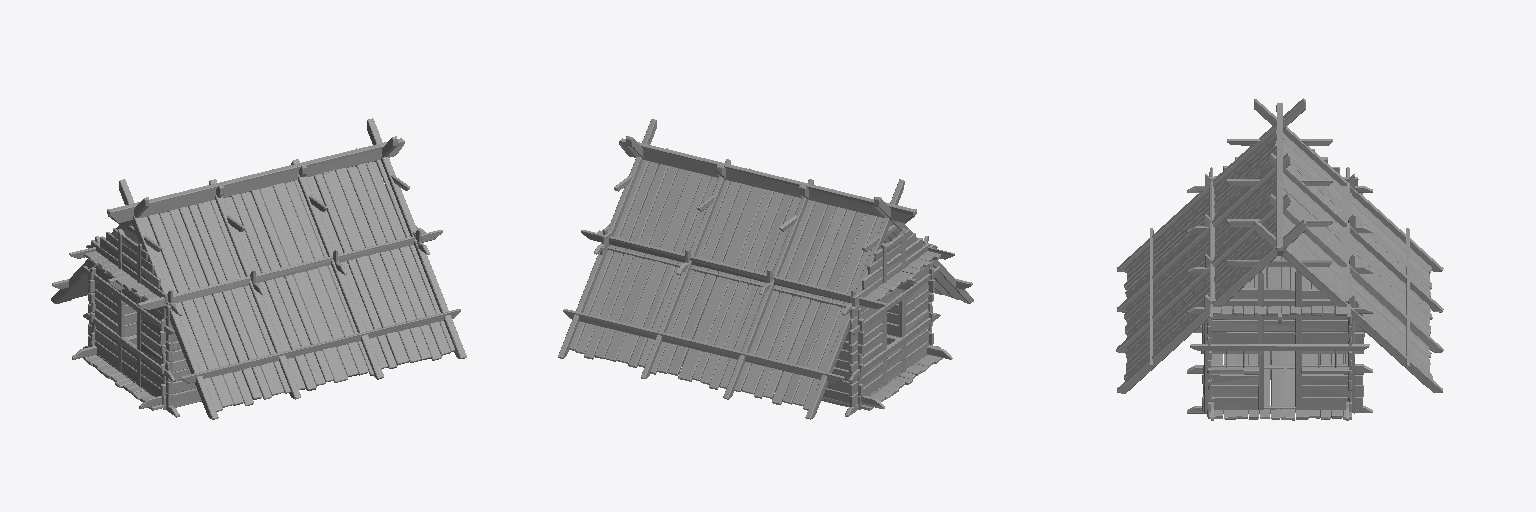
Rendered from v_simple_hut_LOD0.obj.
3 renders of one model, left to right at view 1: azimuth 30°, elevation 25°; view 2: azimuth 150°, elevation 25°; view 3: azimuth 270°, elevation 25°, orthographic.
Visible parts, largest first — view 1: Cube.000_Cube.014, Cube.001_Cube.013; view 2: Cube.000_Cube.014, Cube.001_Cube.013; view 3: Cube.000_Cube.014, Cube.001_Cube.013.
Boxes of the visible parts, x1,y1,x2,y2 form: Cube.000_Cube.014: [58, 160, 454, 411]; Cube.001_Cube.013: [51, 118, 466, 419]; Cube.000_Cube.014: [569, 160, 961, 412]; Cube.001_Cube.013: [558, 119, 973, 419]; Cube.000_Cube.014: [1124, 130, 1432, 420]; Cube.001_Cube.013: [1116, 98, 1443, 420].
Bounding box in the file's own units: 22.41 × 13.68 × 20.83.